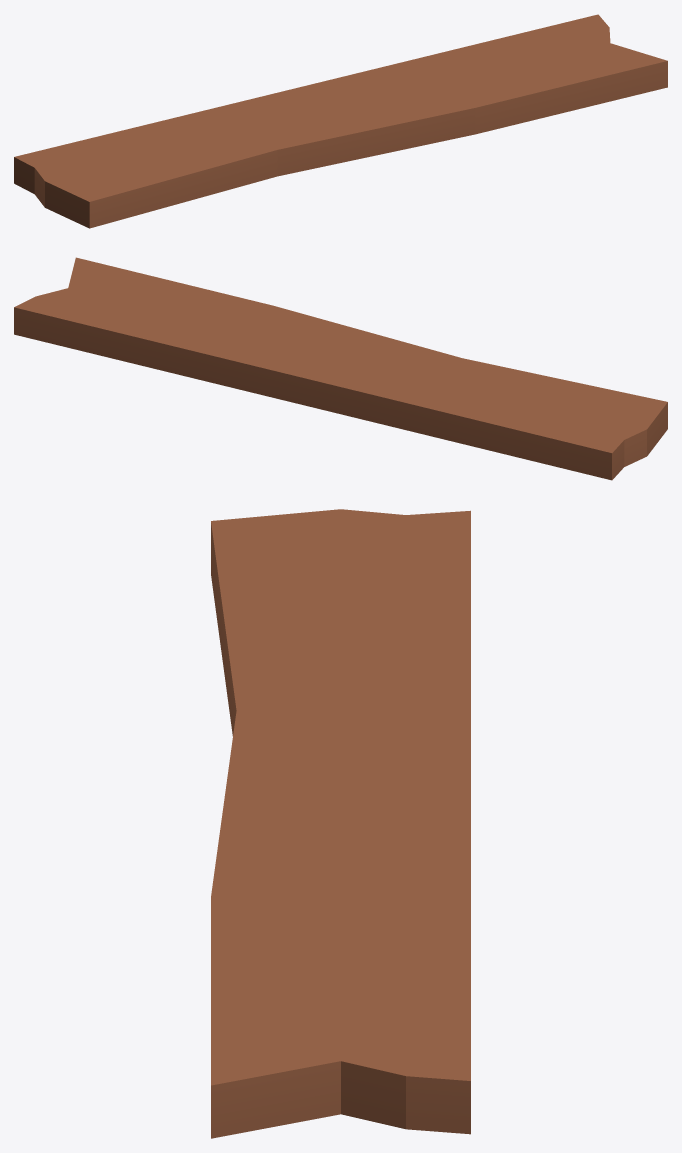
Rendered from board.glb.
The picture shows the model from 3 angles, top to bottom: view 1: azimuth 30°, elevation 25°; view 2: azimuth 150°, elevation 25°; view 3: azimuth 270°, elevation 25°; orthographic projection. The views are drawn at different scales.
Visible parts, largest first — view 1: board; view 2: board; view 3: board.
Part boxes in pixels (bbox=[...]): board: bbox=[14, 14, 667, 228]; board: bbox=[14, 257, 667, 480]; board: bbox=[211, 509, 470, 1138].
Size of the model in its own units: 2.72 by 0.1171 by 0.519.
1 material, 1 textured.
